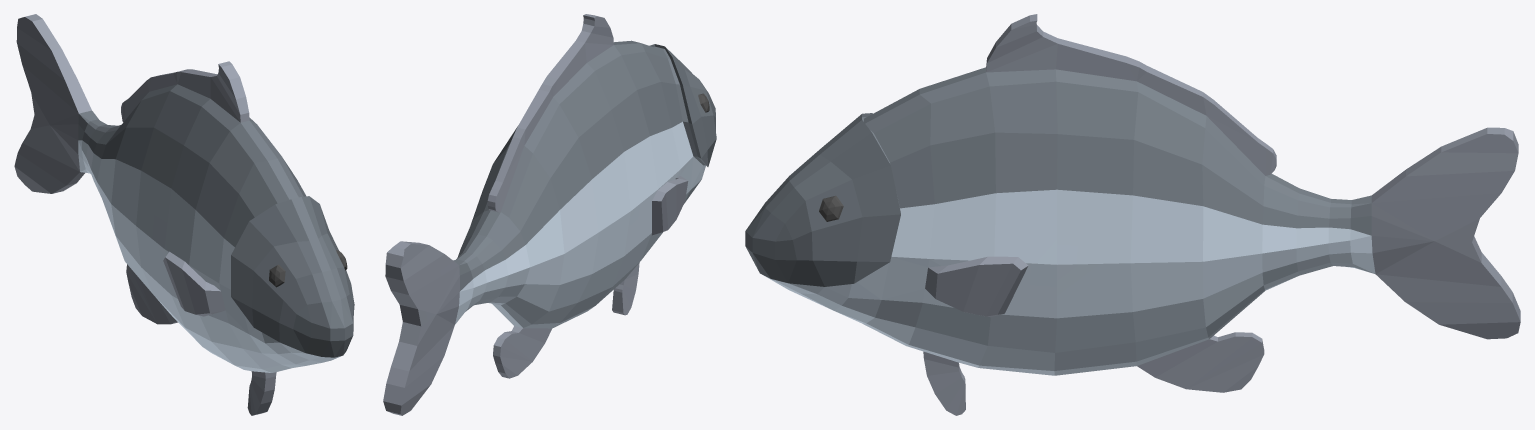
The model's file is fish05.fbx.
The picture shows the model from 3 angles, left to right: view 1: azimuth 30°, elevation 25°; view 2: azimuth 150°, elevation 25°; view 3: azimuth 270°, elevation 25°; orthographic projection. The views are drawn at different scales.
Visible parts, largest first — view 1: fish05; view 2: fish05; view 3: fish05.
Boxes of the visible parts, bbox=[...] form: fish05: bbox=[14, 14, 354, 415]; fish05: bbox=[383, 14, 716, 415]; fish05: bbox=[745, 14, 1520, 415].
Bounding box in the file's own units: 33.78 × 137 × 76.89.
